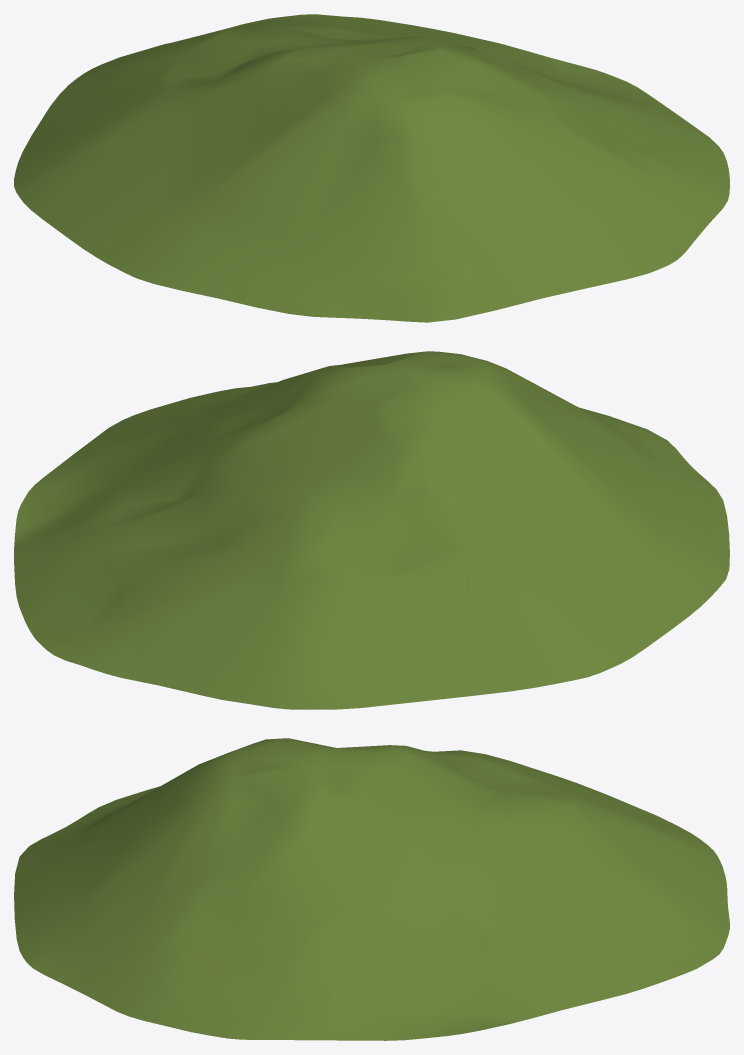
File: rpgpp_av_hill_background_01.gltf
The picture shows the model from 3 angles, top to bottom: view 1: azimuth 30°, elevation 25°; view 2: azimuth 150°, elevation 25°; view 3: azimuth 270°, elevation 25°; orthographic projection. The views are drawn at different scales.
Parts seen in each view (by area): view 1: rpgpp_av_hill_background_01; view 2: rpgpp_av_hill_background_01; view 3: rpgpp_av_hill_background_01.
Boxes of the visible parts, box(x1,y1,x2,y2) form: rpgpp_av_hill_background_01: box(14, 14, 729, 322); rpgpp_av_hill_background_01: box(14, 351, 729, 709); rpgpp_av_hill_background_01: box(14, 738, 729, 1040).
Bounding box in the file's own units: 1.02 × 0.234 × 1.09.
Materials: 1 (1 with a texture image).
